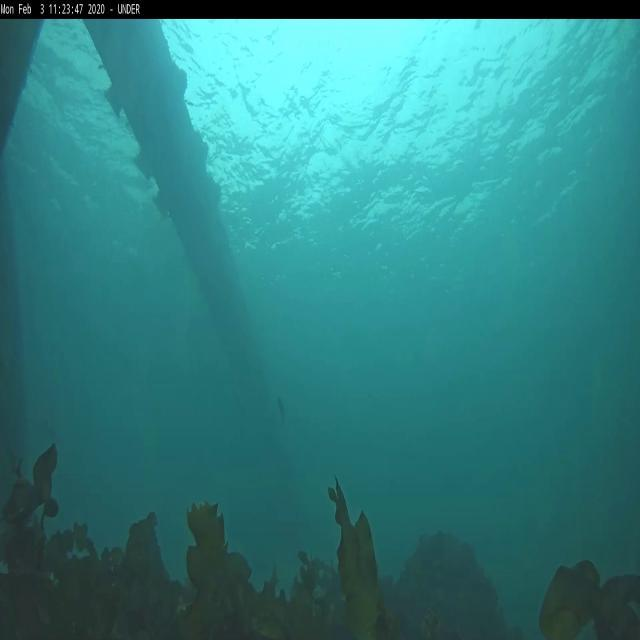fish: (277, 395, 288, 427)
